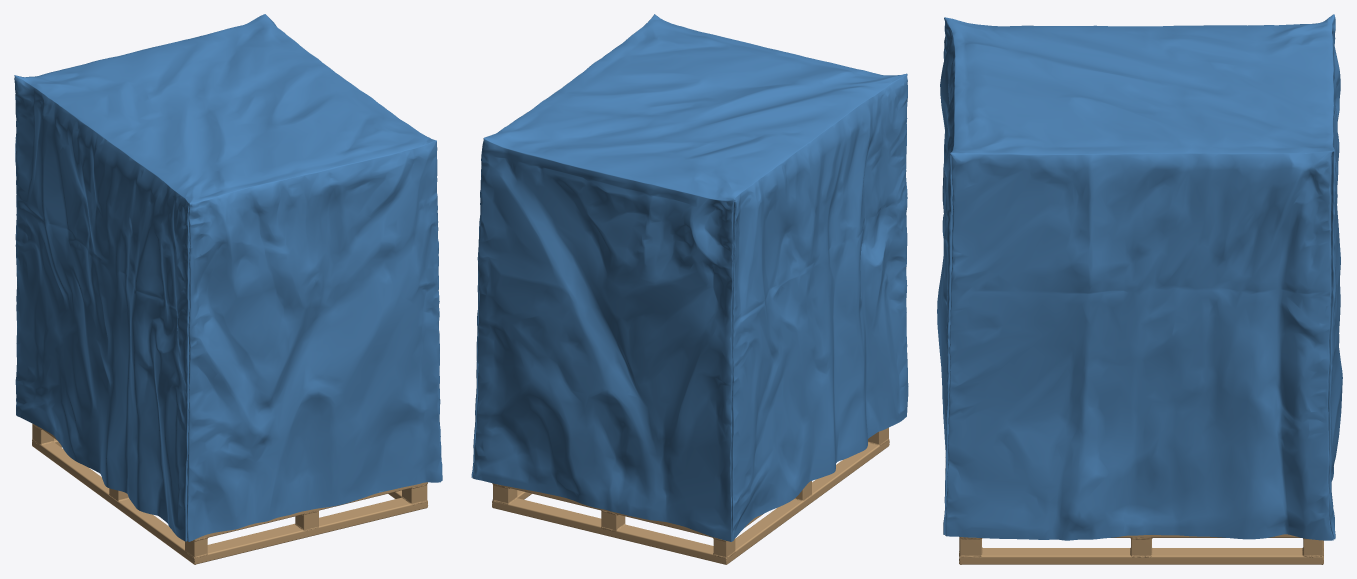
The model's file is pallet_assembly_d02.glb.
3 renders of one model, left to right at view 1: azimuth 30°, elevation 25°; view 2: azimuth 150°, elevation 25°; view 3: azimuth 270°, elevation 25°, orthographic. The views are drawn at different scales.
Size of the model in its own units: 1.17 by 1.54 by 1.36.
